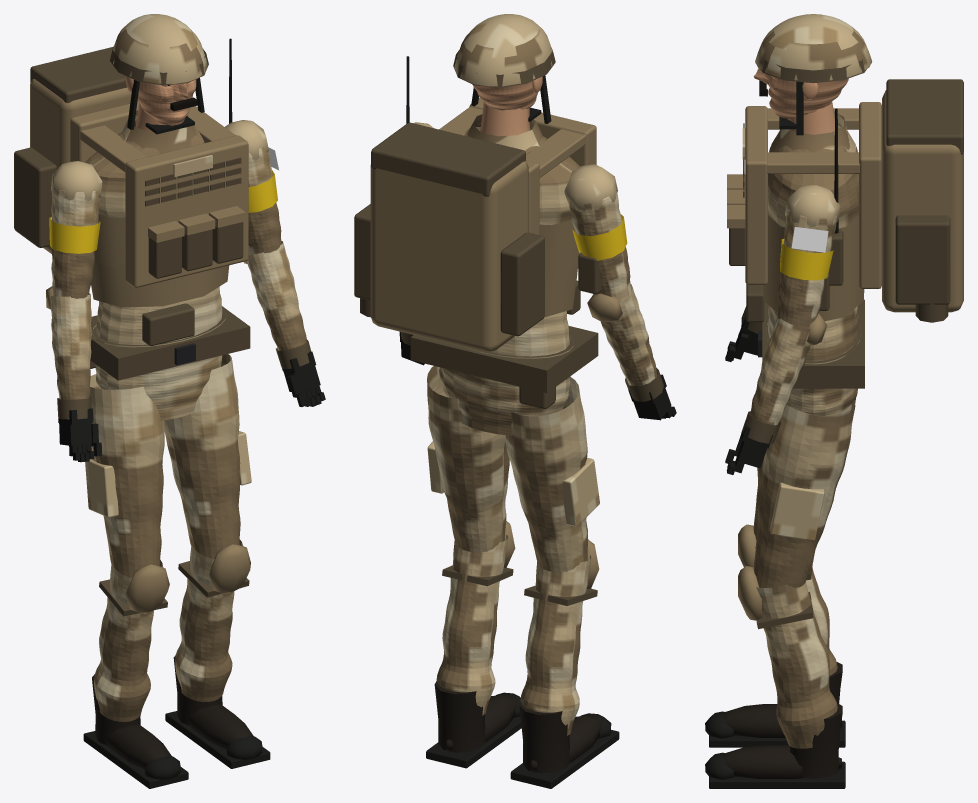
File: Soldier_2.obj
3 renders of one model, left to right at view 1: azimuth 30°, elevation 25°; view 2: azimuth 150°, elevation 25°; view 3: azimuth 270°, elevation 25°, orthographic. The views are drawn at different scales.
Parts seen in each view (by area): view 1: Thigh, Shin, FrontPlate, Forearm, UpperArm, Helmet, Belt, Pack, Pelvis, CummerbundLow, MagPouch, BootFoot (+25 smaller); view 2: Pack, Thigh, Shin, PackFlap, Belt, BootShaft, Helmet, Pelvis, PackSideR, Forearm, BootSole, UpperArm (+24 smaller); view 3: Thigh, Shin, Pack, Helmet, PackFlap, PackSideL, BackPlate, FrontPlate, BootFoot, Forearm, ChestShape, UpperArm (+27 smaller).
Part boxes in pixels (<box>): Thigh: <box>89,354,240,577</box>; Shin: <box>94,539,242,721</box>; FrontPlate: <box>125,135,248,287</box>; Forearm: <box>50,241,306,399</box>; UpperArm: <box>51,147,281,298</box>; Helmet: <box>113,14,207,83</box>; Belt: <box>90,306,250,380</box>; Pack: <box>30,79,138,253</box>; Pelvis: <box>92,308,226,420</box>; CummerbundLow: <box>91,262,229,307</box>; MagPouch: <box>148,222,243,278</box>; BootFoot: <box>107,704,253,769</box>; Pack: <box>370,161,528,351</box>; Thigh: <box>427,366,588,572</box>; Shin: <box>436,535,591,735</box>; PackFlap: <box>371,122,525,196</box>; Belt: <box>410,325,598,393</box>; BootShaft: <box>434,681,569,773</box>; Helmet: <box>454,14,552,86</box>; Pelvis: <box>439,335,573,435</box>; PackSideR: <box>500,232,544,336</box>; Forearm: <box>593,283,657,386</box>; BootSole: <box>426,716,619,788</box>; UpperArm: <box>569,187,631,302</box>; Thigh: <box>753,401,855,587</box>; Shin: <box>754,546,837,748</box>; Pack: <box>882,90,963,312</box>; Helmet: <box>755,14,872,80</box>; PackFlap: <box>886,79,963,154</box>; PackSideL: <box>895,215,950,304</box>; BackPlate: <box>859,102,881,288</box>; FrontPlate: <box>745,106,767,284</box>; BootFoot: <box>720,704,841,778</box>; Forearm: <box>749,317,810,425</box>; ChestShape: <box>768,123,858,228</box>; UpperArm: <box>777,209,836,328</box>.
Size of the model in its own units: 0.6572 by 1.8 by 0.5683.
89 materials, 18 textured.
